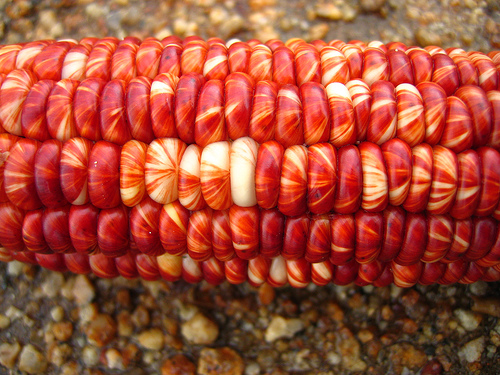corn: (2, 35, 498, 283)
